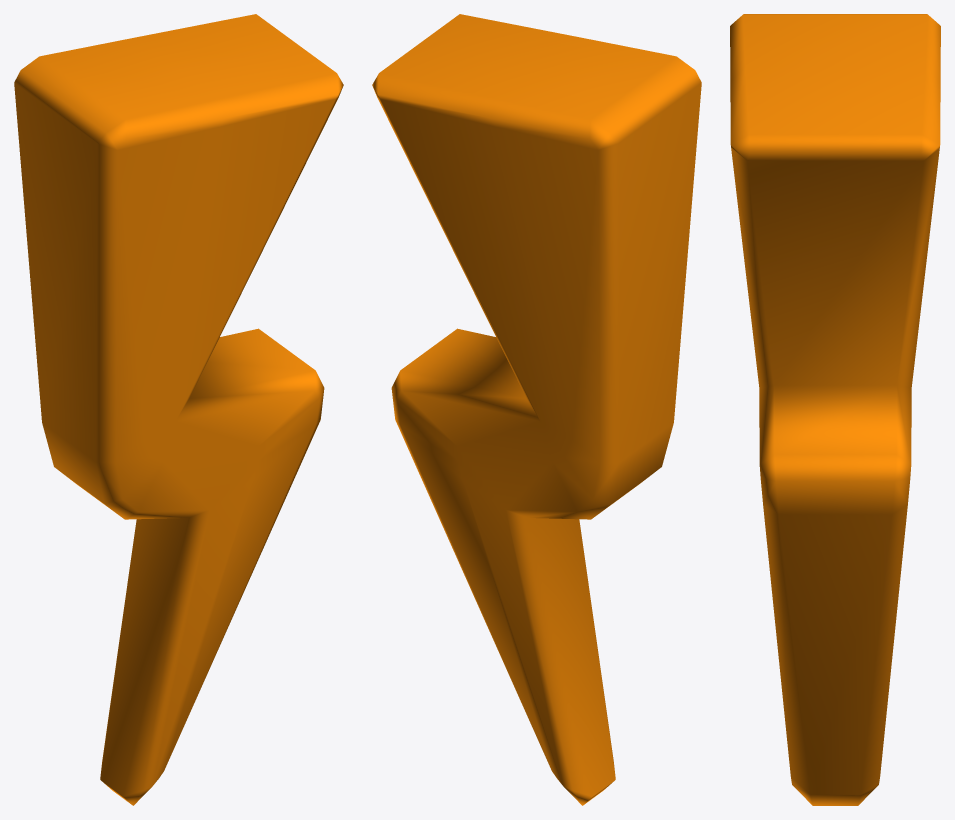
The model's file is BOOST.fbx.
3 views of the same model, side by side, from view 1: azimuth 30°, elevation 25°; view 2: azimuth 150°, elevation 25°; view 3: azimuth 270°, elevation 25° (orthographic). The views are drawn at different scales.
Visible parts, largest first — view 1: BOOST; view 2: BOOST; view 3: BOOST.
Boxes of the visible parts, <box> form: BOOST: <box>14,14,343,805</box>; BOOST: <box>372,14,701,805</box>; BOOST: <box>730,14,940,805</box>.
Size of the model in its own units: 0.2711 by 0.7518 by 0.1865.
